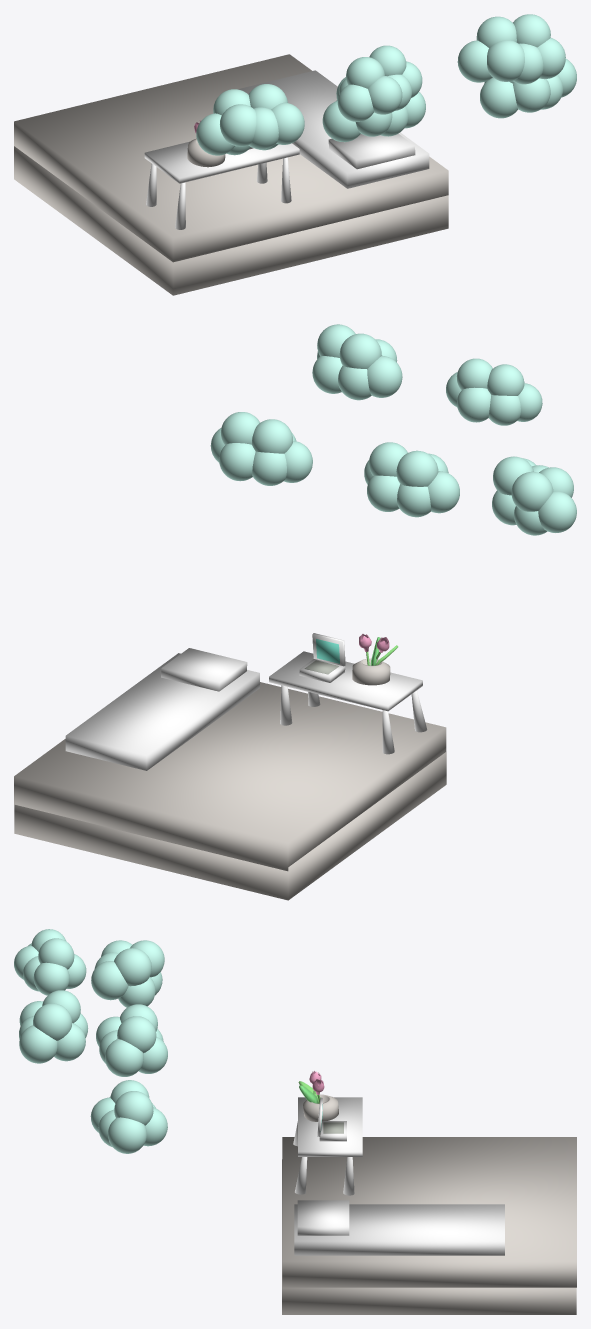
Rendered from bedroom.glb.
3 views of the same model, one above another, from view 1: azimuth 30°, elevation 25°; view 2: azimuth 150°, elevation 25°; view 3: azimuth 270°, elevation 25° (orthographic). The views are drawn at different scales.
Visible parts, largest first — view 1: Platform, bed, cloud2, cloud3, cloud5, table, cloud1, cloud4, Cylinder.004; view 2: Platform, bed, cloud1, cloud4, cloud3, cloud2, table, cloud5, laptopbody, Cylinder.004; view 3: Platform, bed, cloud2, cloud3, cloud4, cloud1, table, cloud5, Cylinder.004, laptopbody.
Part boxes in pixels (left/top/right/bottom): Platform: left=14, top=54, right=448, bottom=295; bed: left=238, top=70, right=429, bottom=188; cloud2: left=457, top=14, right=565, bottom=84; cloud3: left=196, top=84, right=304, bottom=155; cloud5: left=337, top=45, right=422, bottom=121; table: left=144, top=141, right=299, bottom=229; cloud1: left=480, top=59, right=576, bottom=118; cloud4: left=322, top=77, right=425, bottom=142; Cylinder.004: left=187, top=138, right=225, bottom=167; Platform: left=14, top=682, right=446, bottom=900; bed: left=65, top=648, right=259, bottom=770; cloud1: left=210, top=412, right=312, bottom=485; cloud4: left=364, top=442, right=459, bottom=517; cloud3: left=492, top=456, right=576, bottom=535; cloud2: left=312, top=324, right=402, bottom=400; table: left=269, top=651, right=427, bottom=754; cloud5: left=446, top=358, right=542, bottom=425; laptopbody: left=299, top=633, right=345, bottom=682; Cylinder.004: left=352, top=658, right=390, bottom=685; Platform: left=282, top=1137, right=576, bottom=1314; bed: left=294, top=1200, right=504, bottom=1255; cloud2: left=19, top=990, right=88, bottom=1063; cloud3: left=91, top=940, right=164, bottom=1007; cloud4: left=96, top=1004, right=167, bottom=1076; cloud1: left=90, top=1080, right=167, bottom=1153; table: left=293, top=1097, right=362, bottom=1195; cloud5: left=14, top=929, right=86, bottom=995; Cylinder.004: left=303, top=1094, right=338, bottom=1121; laptopbody: left=317, top=1097, right=346, bottom=1141.
Size of what is drawn, in the model's own units: 13.06 by 10.66 by 18.63.
